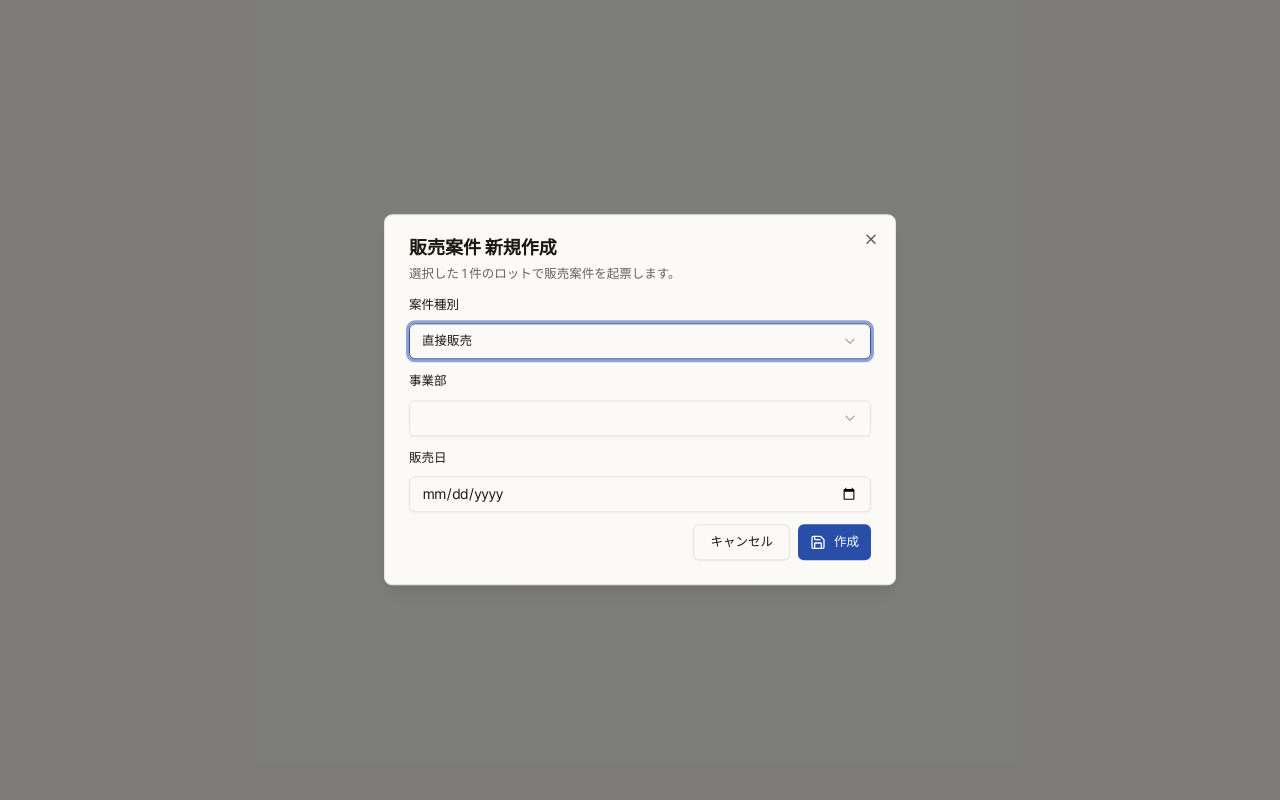
Test: <SalesCaseCreateDialog> (FE-COMP-SALES-CREATE-DIALOG-*) › FE-COMP-SALES-CREATE-DIALOG-004: 必須空 (salesDate) → API 未呼出、field エラー
Click the button "作成".
click(834, 543)  # box [798,525,871,561]
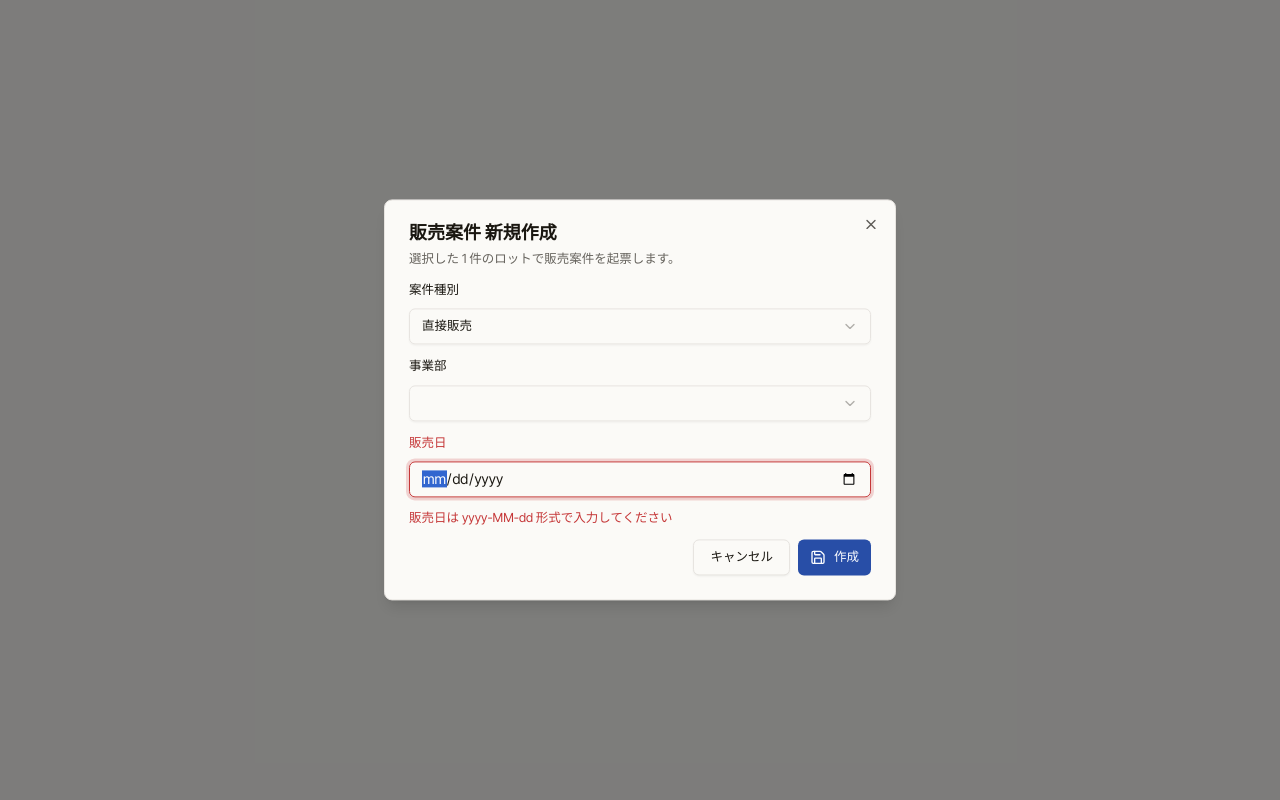
Expected: the text "販売日は yyyy-MM-dd 形式で入力してください" is shown, [409,511,673,526]
